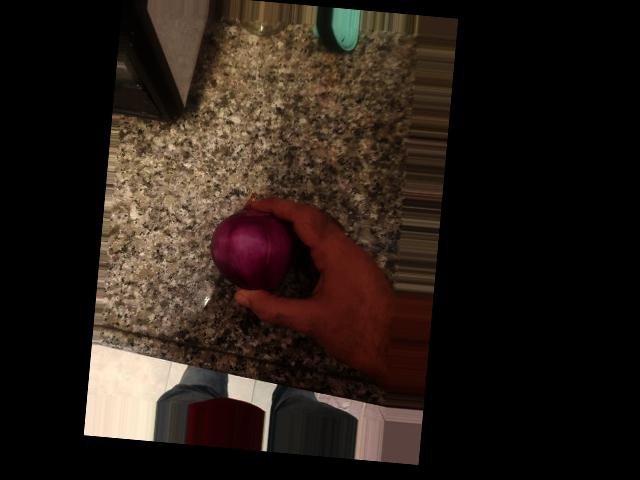onion: (207, 199, 292, 293)
